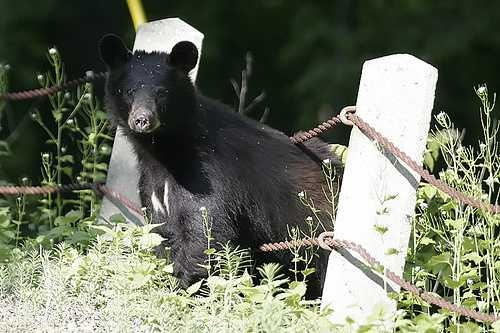bear: (93, 34, 221, 162)
